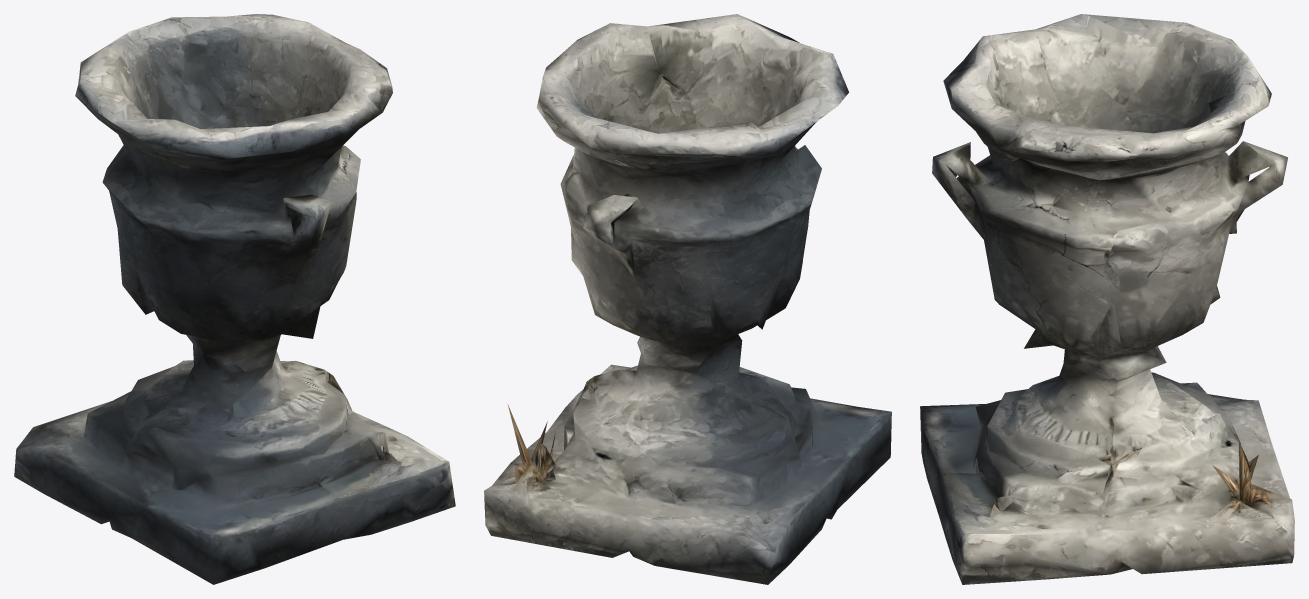
The model's file is sn_urn.glb.
The picture shows the model from 3 angles, left to right: view 1: azimuth 30°, elevation 25°; view 2: azimuth 150°, elevation 25°; view 3: azimuth 270°, elevation 25°; orthographic projection. The views are drawn at different scales.
Visible parts, largest first — view 1: tripo_node_20a31321-5db0-4e5f-8602-4f01b8283acf; view 2: tripo_node_20a31321-5db0-4e5f-8602-4f01b8283acf; view 3: tripo_node_20a31321-5db0-4e5f-8602-4f01b8283acf.
Boxes of the visible parts, box(x1,y1,x2,y2) form: tripo_node_20a31321-5db0-4e5f-8602-4f01b8283acf: box(14, 14, 455, 584); tripo_node_20a31321-5db0-4e5f-8602-4f01b8283acf: box(484, 14, 891, 584); tripo_node_20a31321-5db0-4e5f-8602-4f01b8283acf: box(920, 14, 1294, 584).
Size of the model in its own units: 0.7531 by 1 by 0.7806.
1 material, 1 textured.
